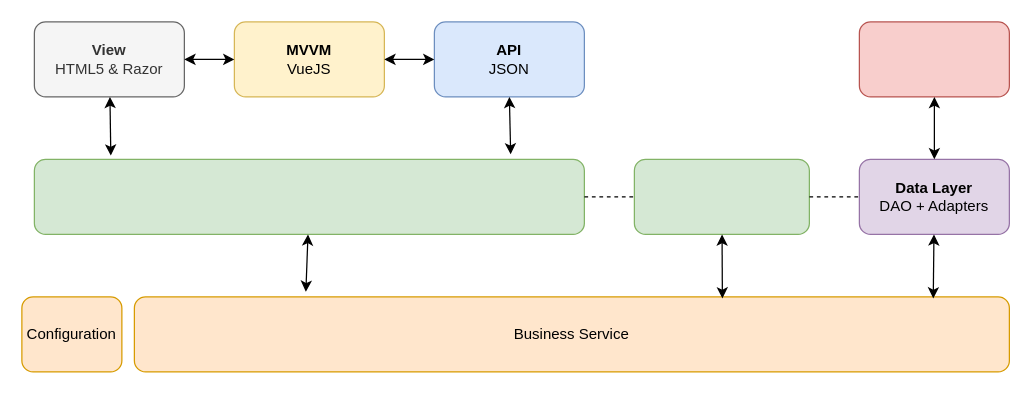
The diagram is 1031 pixels wide and 394 high, and some of its shapes have lost their labels. Here are the shapes that lost their labels. From the top down, the box of each, then its label:
(858, 21, 1009, 97): Database MSSQL
(33, 158, 584, 234): Controllers Routing business calls to view
(633, 158, 809, 234): Models Request / Response
